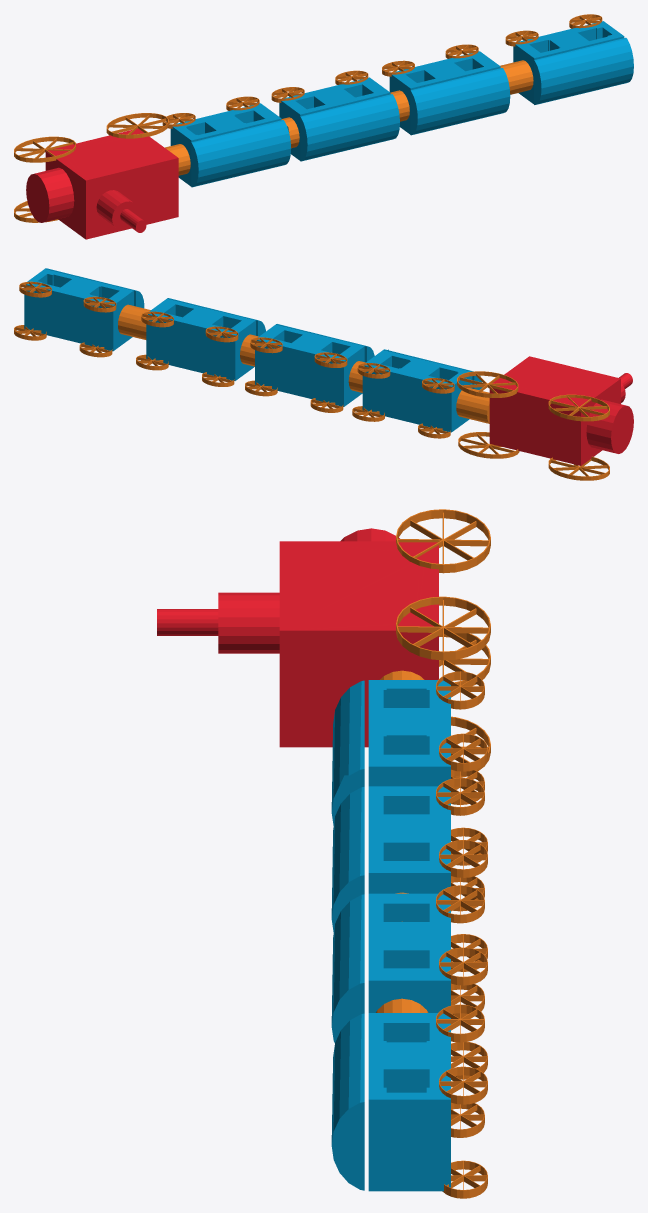
The model's file is tinker.obj.
The picture shows the model from 3 angles, top to bottom: view 1: azimuth 30°, elevation 25°; view 2: azimuth 150°, elevation 25°; view 3: azimuth 270°, elevation 25°; orthographic projection. The views are drawn at different scales.
Parts seen in each view (by area): view 1: group_0_40919, group_0_15277357, group_0_16089887; view 2: group_0_40919, group_0_16089887, group_0_15277357; view 3: group_0_40919, group_0_15277357, group_0_16089887.
Part boxes in pixels (x1,y1,x2,y2): group_0_40919: (170, 21, 633, 187); group_0_15277357: (26, 128, 178, 239); group_0_16089887: (14, 14, 602, 222); group_0_40919: (24, 268, 482, 432); group_0_16089887: (14, 281, 609, 480); group_0_15277357: (489, 356, 633, 465); group_0_40919: (331, 680, 450, 1191); group_0_15277357: (157, 528, 438, 747); group_0_16089887: (376, 509, 490, 1198).
Bounding box in the file's own units: 443 × 47 × 109.
